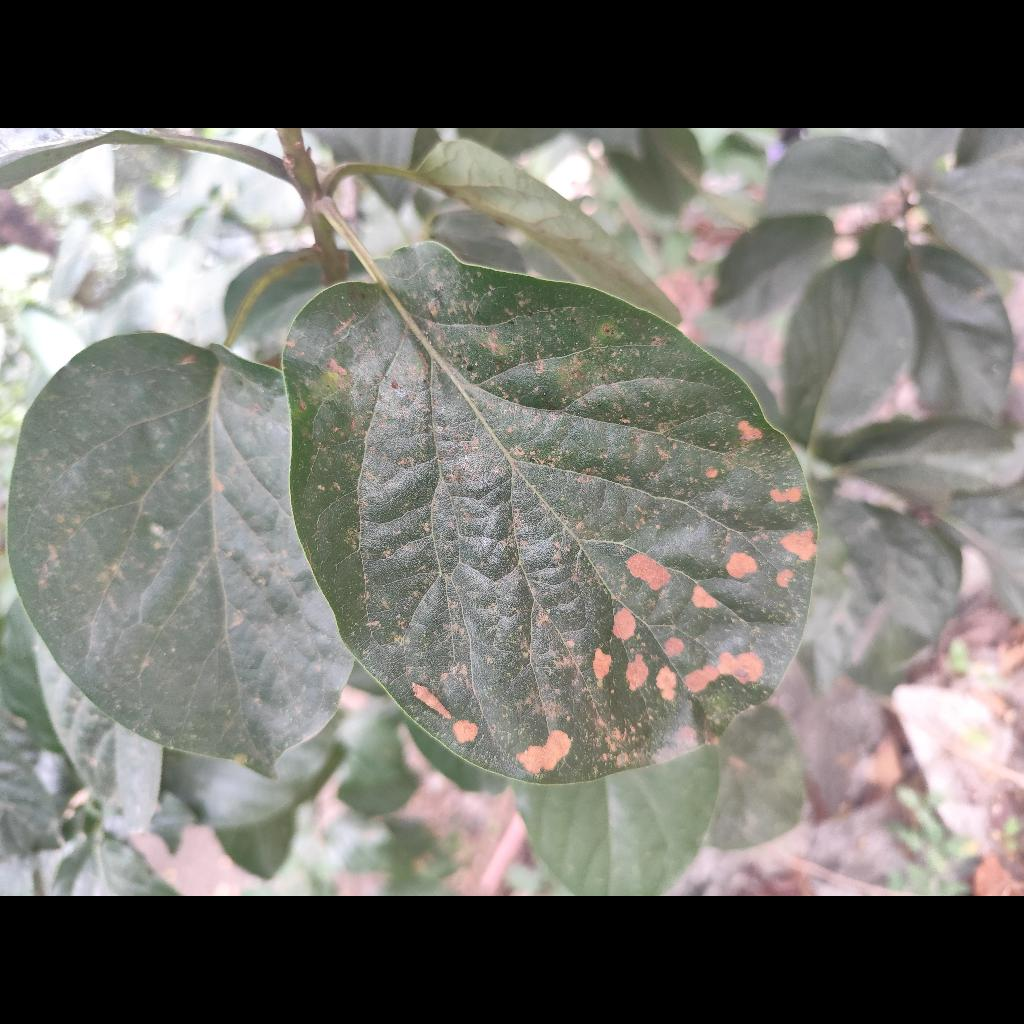antracnosis_hoja: (283, 243, 817, 784)
